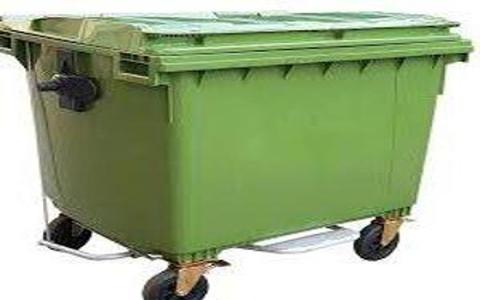Proper garbage: (2, 1, 469, 298)
